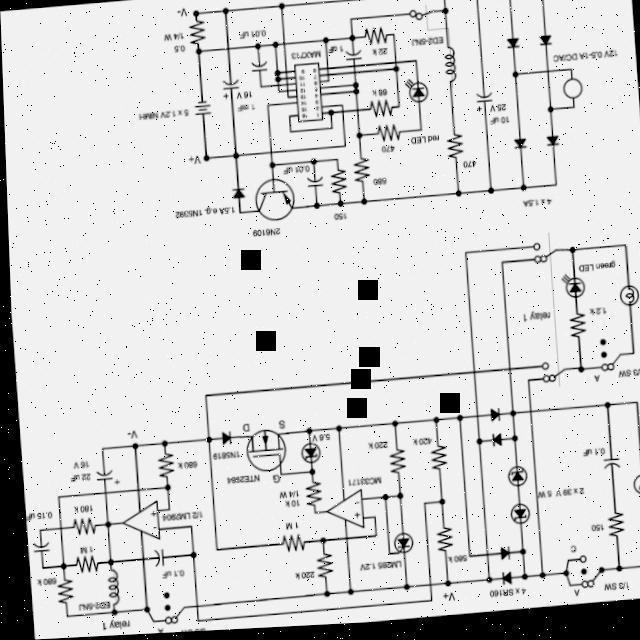capacitor: (593, 459, 621, 487), (296, 173, 328, 197), (86, 462, 115, 488), (336, 46, 367, 68), (144, 546, 168, 574), (470, 90, 494, 116), (25, 535, 48, 558), (247, 58, 271, 80), (221, 77, 246, 98)
diode: (499, 505, 531, 536), (554, 276, 585, 308), (403, 78, 431, 111), (499, 465, 528, 495), (498, 34, 524, 64), (223, 182, 249, 211), (387, 528, 411, 559), (294, 443, 318, 469), (478, 407, 501, 433), (506, 137, 528, 162), (533, 36, 556, 56), (493, 547, 510, 573), (485, 433, 502, 458), (214, 428, 230, 451), (494, 573, 510, 594), (545, 136, 560, 157)
inductor: (440, 43, 461, 97), (101, 570, 117, 609)
mosfet: (236, 426, 286, 478)
node: (218, 6, 234, 23), (199, 432, 213, 451), (310, 199, 324, 217), (197, 152, 212, 168), (153, 437, 168, 452), (134, 603, 149, 618), (319, 36, 333, 52), (469, 438, 483, 453), (450, 415, 464, 430), (483, 189, 497, 203), (571, 366, 585, 380), (53, 559, 65, 575), (386, 419, 398, 435), (333, 197, 344, 214), (183, 548, 195, 563), (598, 404, 610, 419), (503, 410, 515, 425), (545, 107, 556, 123), (375, 494, 388, 507), (516, 187, 530, 199), (191, 9, 203, 23), (99, 556, 113, 568), (299, 428, 313, 440), (564, 250, 578, 262), (514, 574, 525, 589), (193, 47, 205, 60), (426, 419, 439, 431), (331, 426, 343, 439), (436, 582, 449, 594), (450, 194, 464, 205), (104, 604, 115, 618), (440, 10, 452, 22), (276, 3, 288, 15), (609, 569, 621, 581), (271, 41, 281, 55), (396, 584, 406, 598), (229, 153, 241, 164), (348, 90, 360, 101), (271, 70, 283, 81), (303, 470, 315, 481), (159, 483, 169, 496), (318, 591, 328, 604), (341, 588, 351, 601), (392, 494, 401, 508), (352, 134, 363, 145), (347, 35, 358, 46), (480, 579, 491, 590), (358, 198, 368, 210), (349, 84, 361, 94), (253, 44, 263, 56), (312, 538, 322, 550), (433, 501, 443, 513), (100, 518, 108, 532), (390, 68, 401, 78), (505, 438, 516, 448), (307, 161, 316, 173), (514, 552, 523, 564), (127, 441, 136, 453), (327, 109, 335, 122), (267, 162, 275, 174), (272, 79, 282, 87), (534, 576, 541, 586), (511, 75, 517, 85), (439, 0, 450, 4), (472, 0, 483, 2), (503, 0, 517, 1)
resistor: (427, 522, 457, 568), (271, 529, 311, 562), (422, 438, 451, 482), (145, 448, 181, 483), (601, 510, 627, 552), (63, 512, 97, 542), (564, 312, 588, 354), (383, 445, 408, 485), (369, 122, 403, 151), (303, 550, 331, 585), (444, 132, 471, 168), (66, 550, 99, 579), (295, 479, 323, 513), (363, 100, 400, 125), (49, 573, 71, 611), (349, 155, 371, 191), (358, 25, 388, 51), (183, 20, 208, 49), (326, 170, 349, 199)
source: (554, 78, 588, 111), (187, 95, 216, 126), (625, 475, 640, 505)
switch: (553, 554, 602, 602), (523, 244, 557, 272), (532, 359, 556, 396), (400, 7, 433, 30), (149, 609, 177, 633)
transistor: (249, 175, 299, 233)
